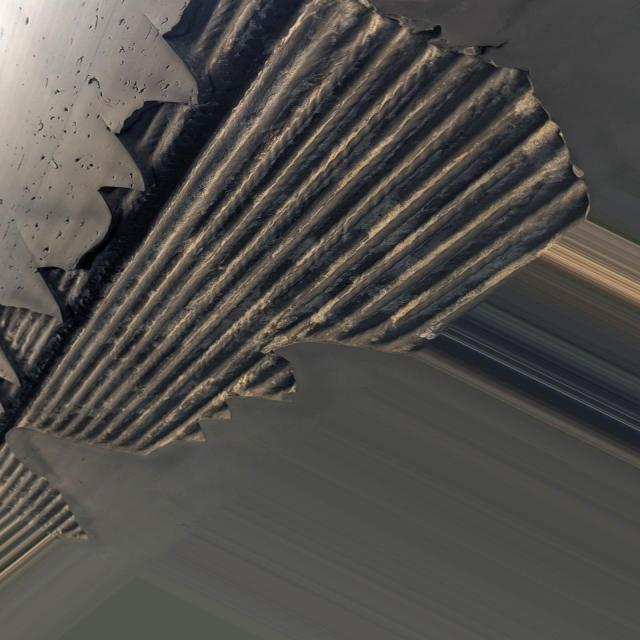Tear: (0, 0, 598, 583)
